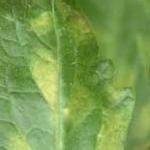Tomato mold leaf: (0, 0, 140, 150)
